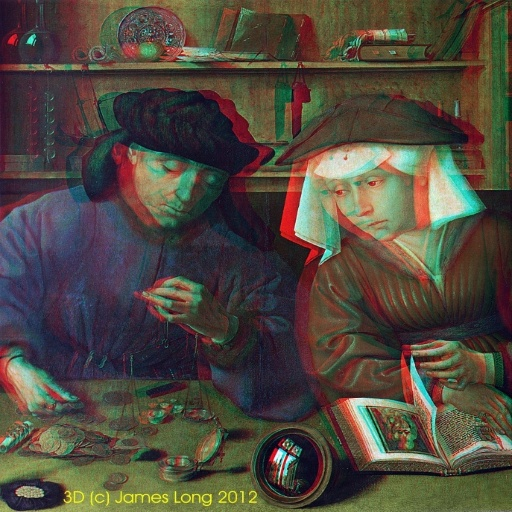hand: (2, 354, 83, 418), (409, 338, 482, 392), (136, 275, 215, 322), (442, 386, 510, 434)
